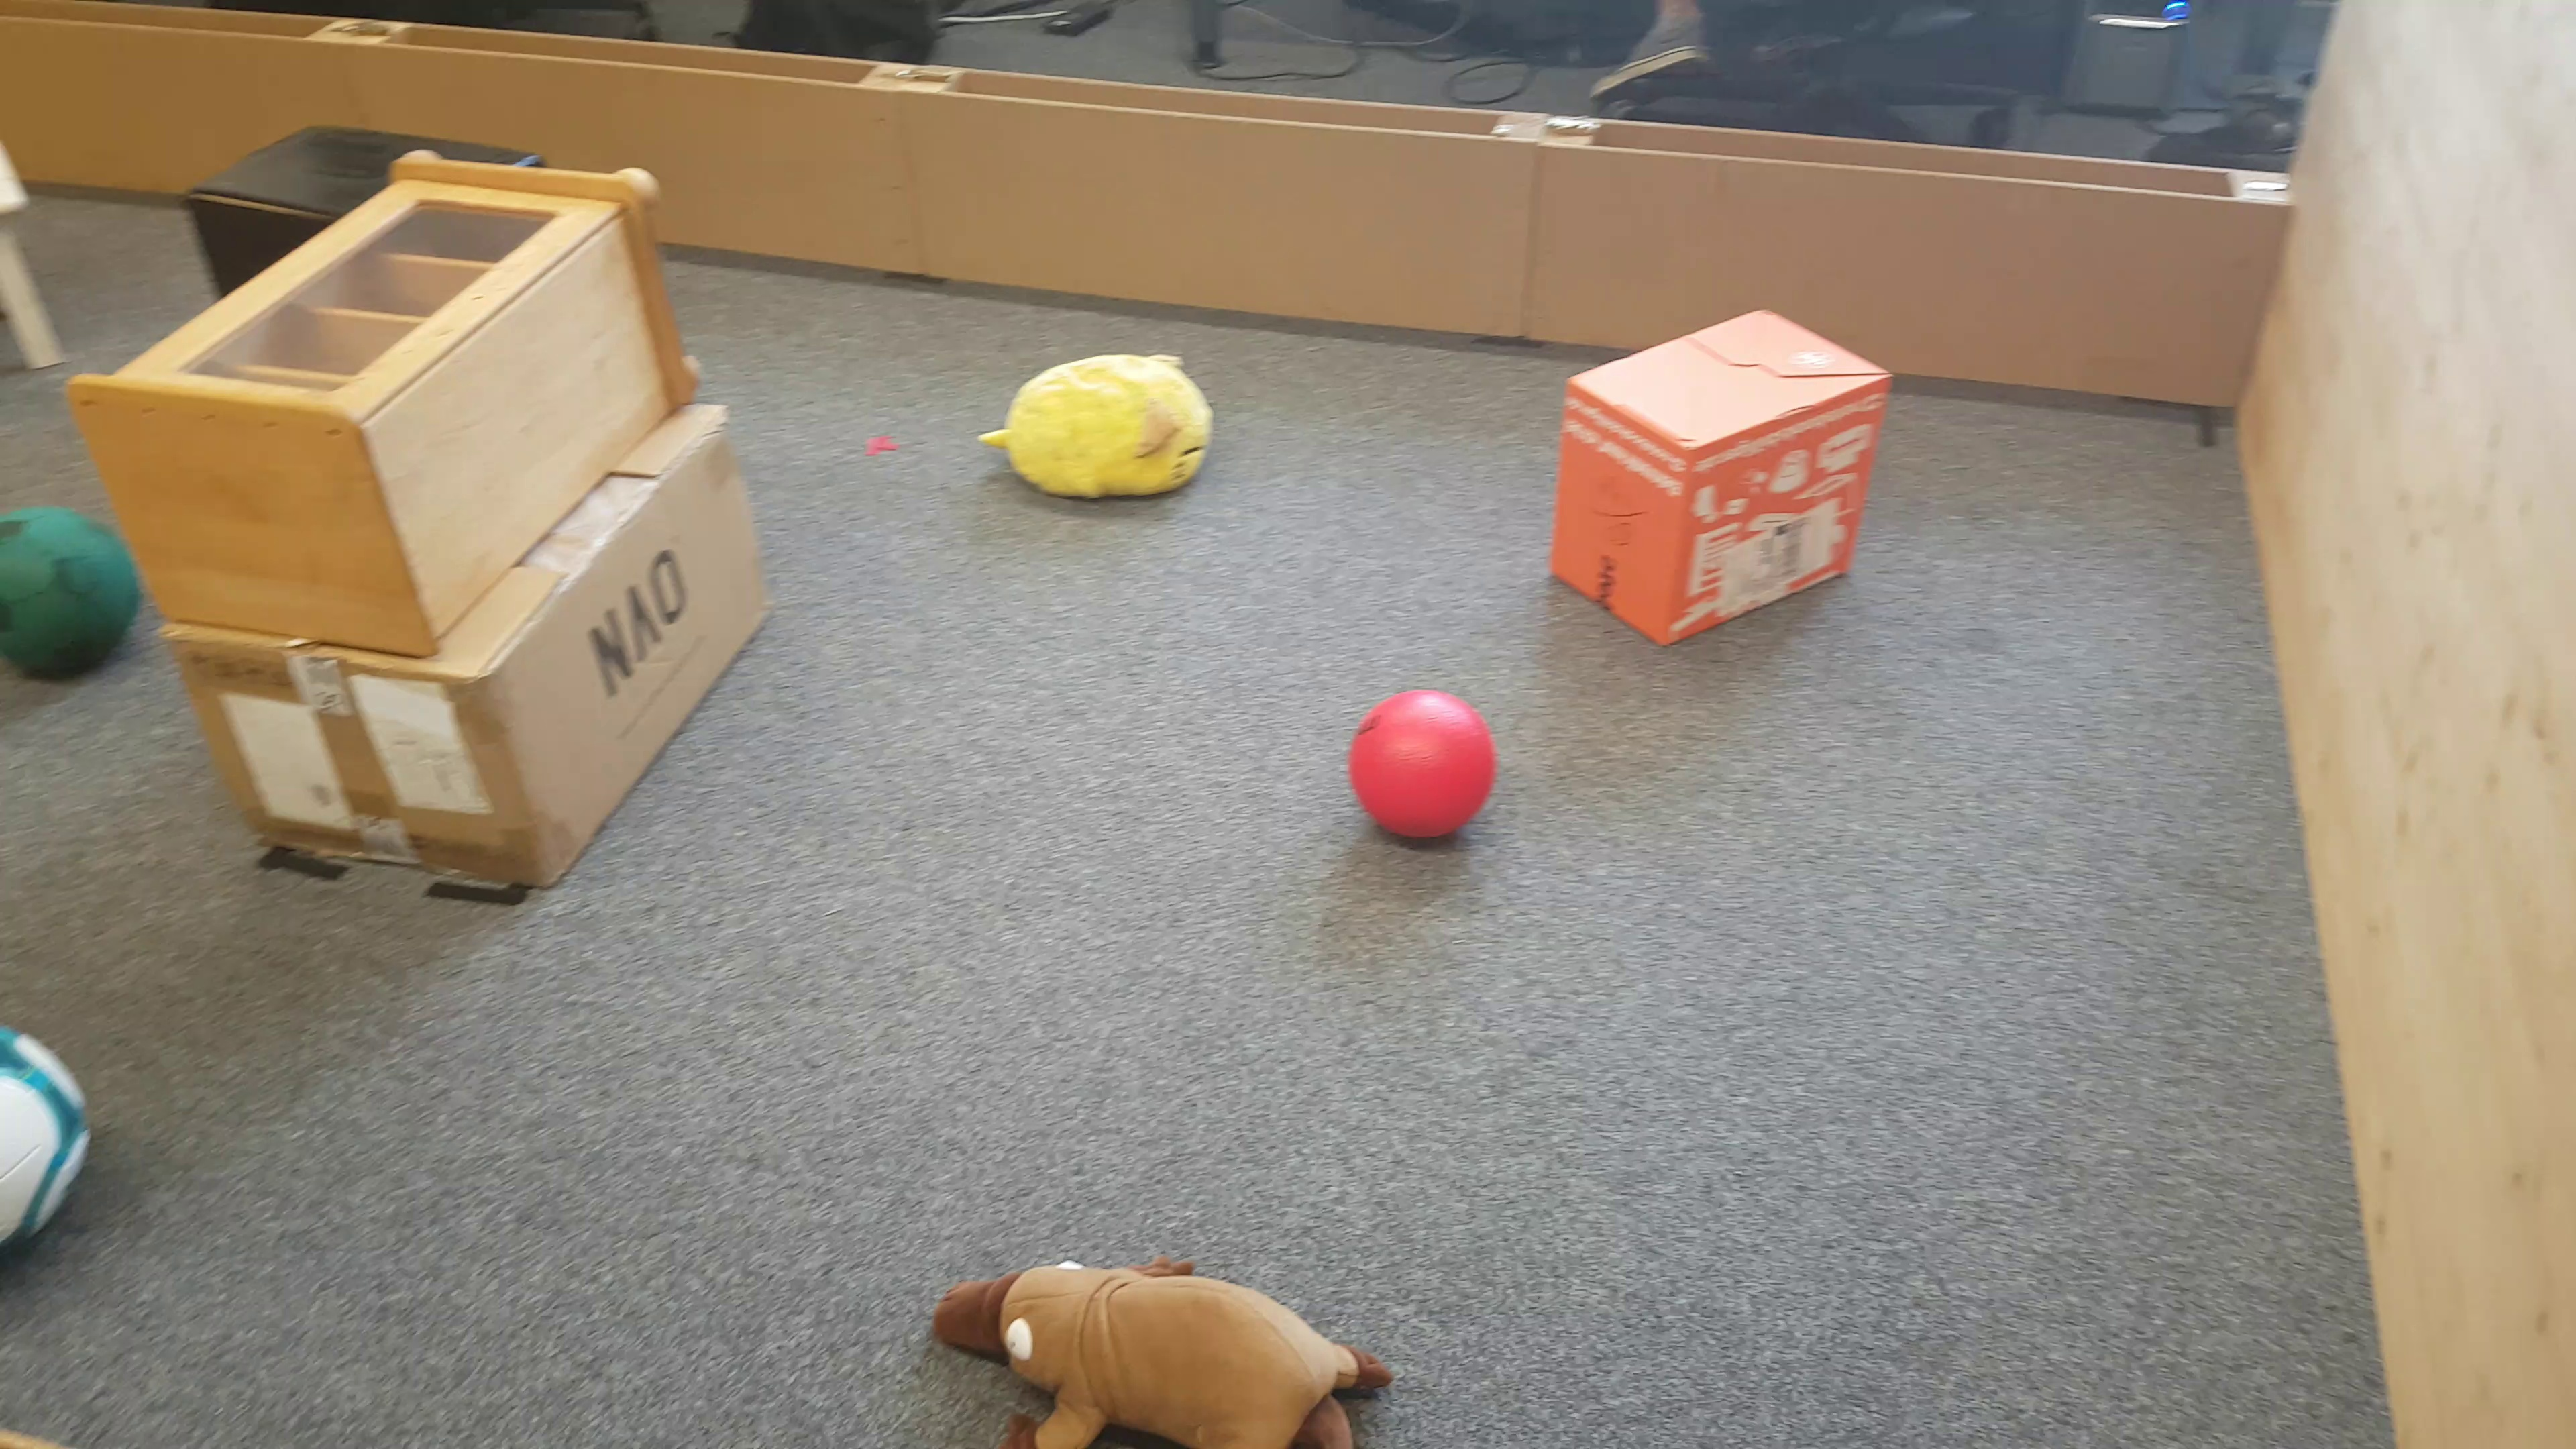grasp: (932, 1249, 1387, 1449), (989, 345, 1215, 502)
kick: (4, 499, 138, 692), (1350, 686, 1495, 851), (4, 1021, 87, 1269)
push: (1550, 306, 1893, 640), (189, 119, 338, 214)
